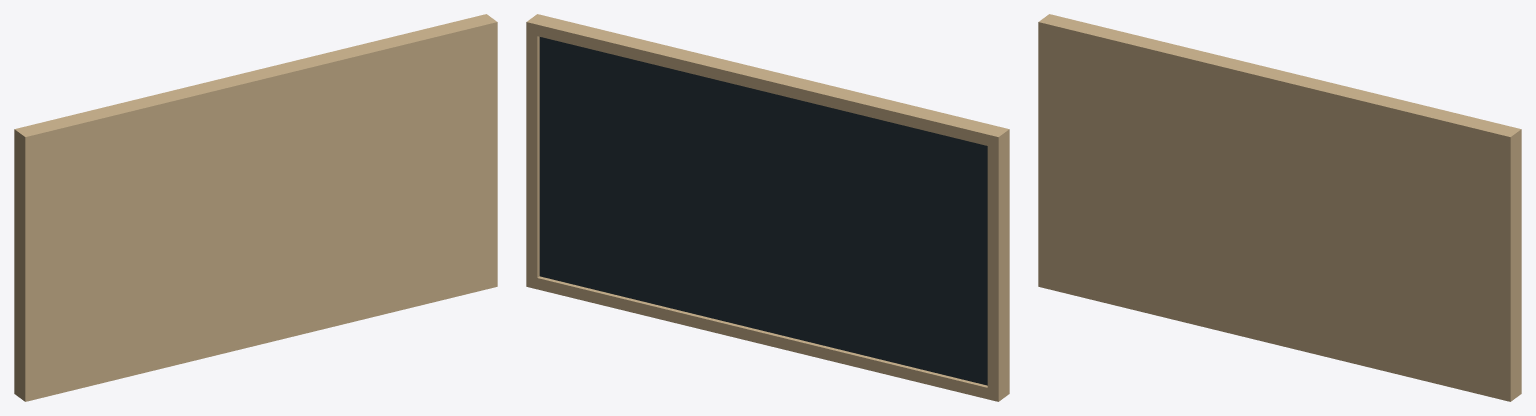
File: Board_COFFEROOM.fbx
The picture shows the model from 3 angles, left to right: view 1: azimuth 30°, elevation 25°; view 2: azimuth 150°, elevation 25°; view 3: azimuth 330°, elevation 25°; orthographic projection.
Parts seen in each view (by area): view 1: board.001; view 2: board.001; view 3: board.001.
Boxes of the visible parts, x1,y1,x2,y2 form: board.001: (14, 14, 497, 401); board.001: (526, 14, 1009, 401); board.001: (1038, 14, 1521, 401).
Bounding box in the file's own units: 2 × 1.07 × 0.0804.
